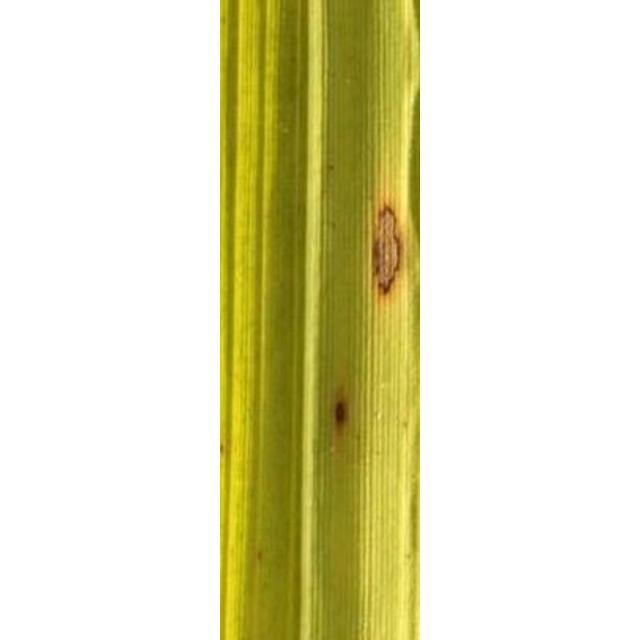Brown spot: (341, 198, 418, 320), (288, 363, 362, 461)
